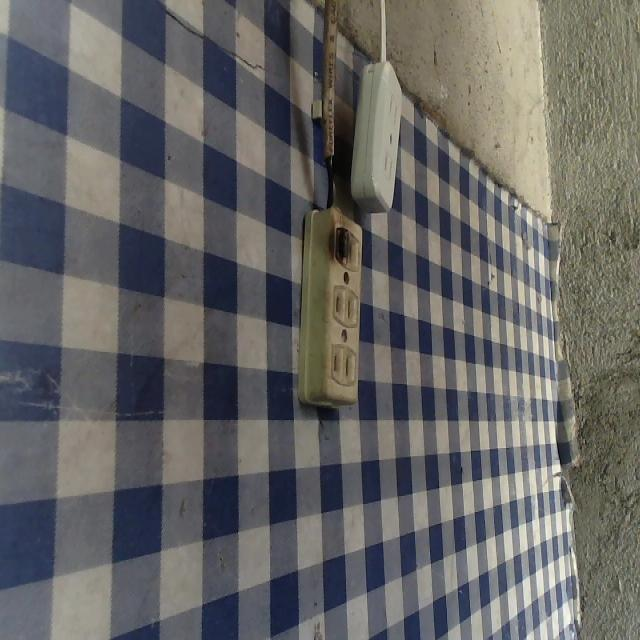-: (324, 214, 352, 270)
